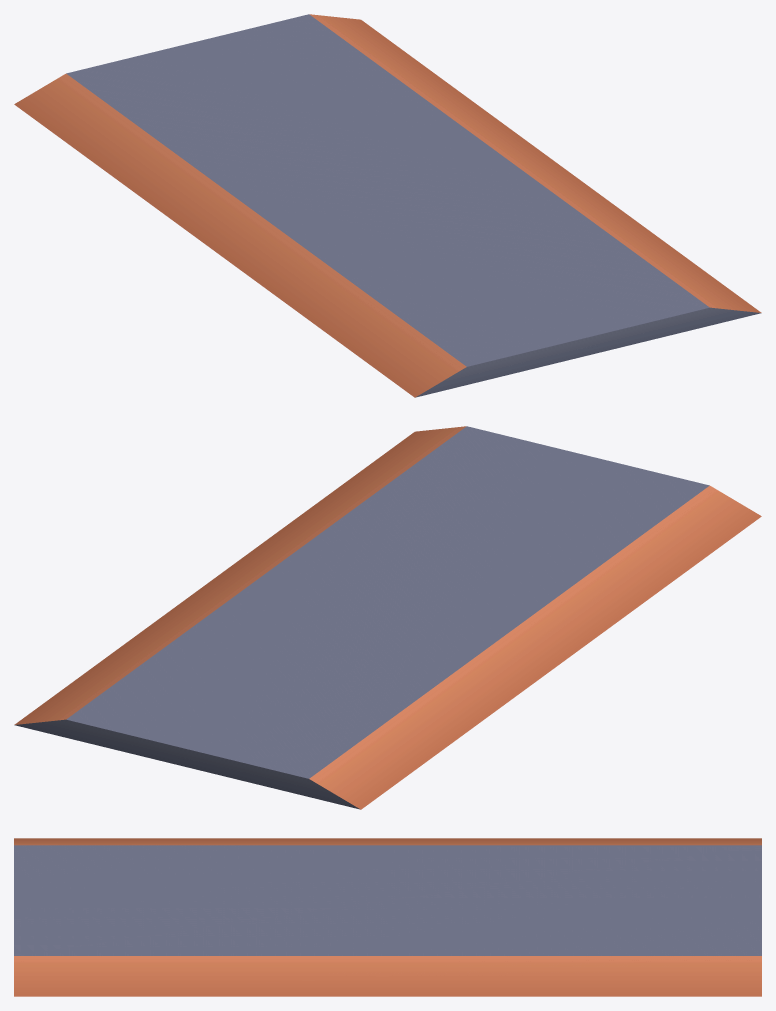
3 views of the same model, one above another, from view 1: azimuth 30°, elevation 25°; view 2: azimuth 150°, elevation 25°; view 3: azimuth 270°, elevation 25° (orthographic). The views are drawn at different scales.
Visible parts, largest first — view 1: path-long; view 2: path-long; view 3: path-long.
Boxes of the visible parts, x1=… form: path-long: x1=14, y1=14, x2=761, y2=397; path-long: x1=14, y1=426, x2=761, y2=809; path-long: x1=14, y1=838, x2=761, y2=996.
Bounding box in the file's own units: 1.8 × 0.09 × 3.6.
Materials: 1 (1 with a texture image).
